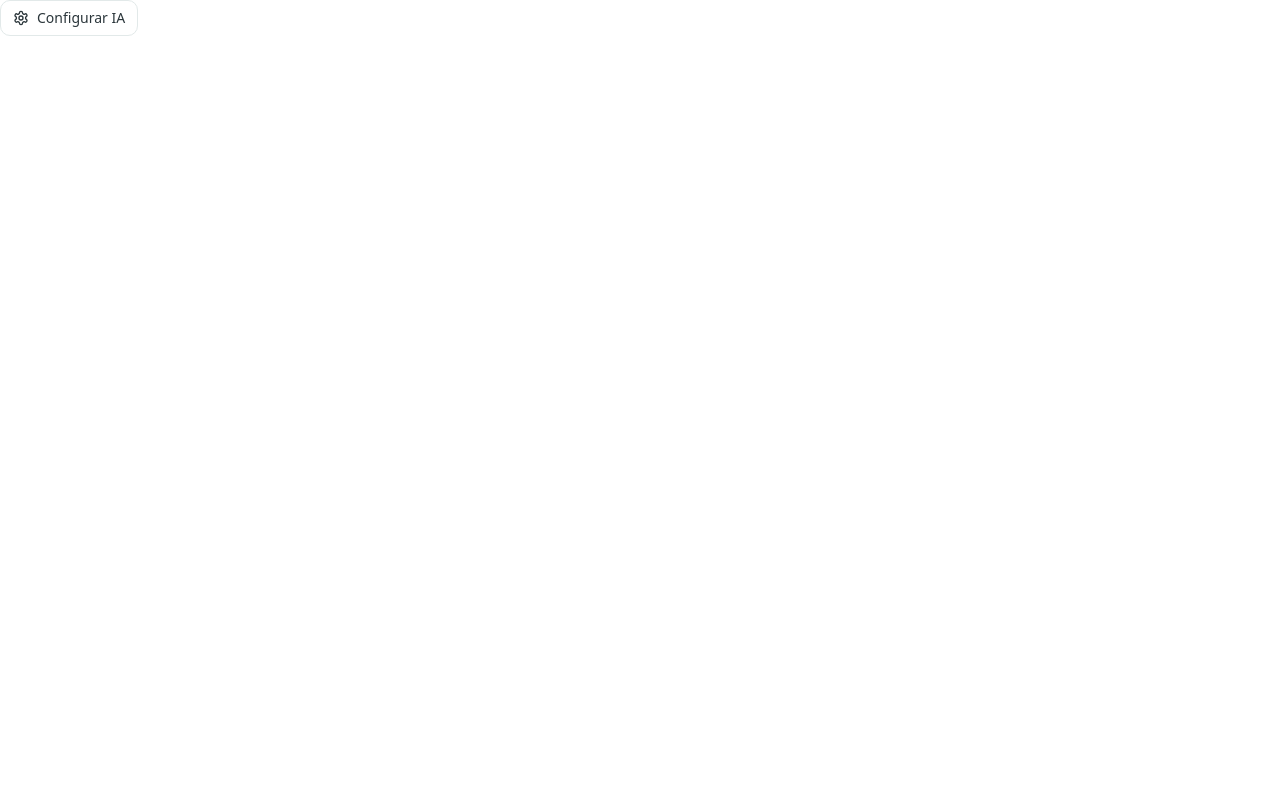
it: AIConfigurationModal › já configurada: lê pela RPC, deixa o campo vazio e não chama set_ai_api_key sem chave nova
Later steps or results of the test are not shown.
Click the button "Configurar IA" at (69, 18), box [0, 0, 138, 36]
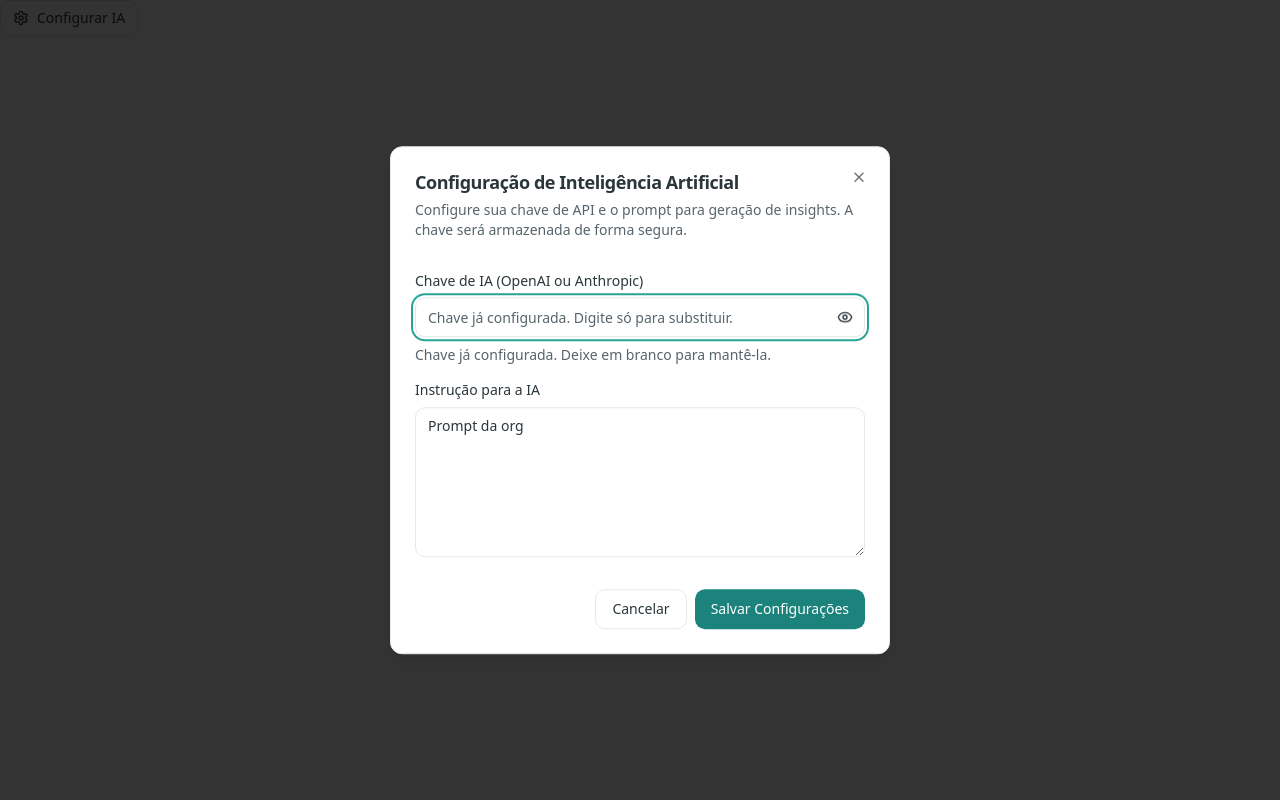
Check: the password field labelled "Chave de IA (OpenAI ou Anthropic)" is empty, box [415, 297, 865, 337]
Check: the text box showing "Prompt da org" is shown, box [415, 407, 865, 557]
